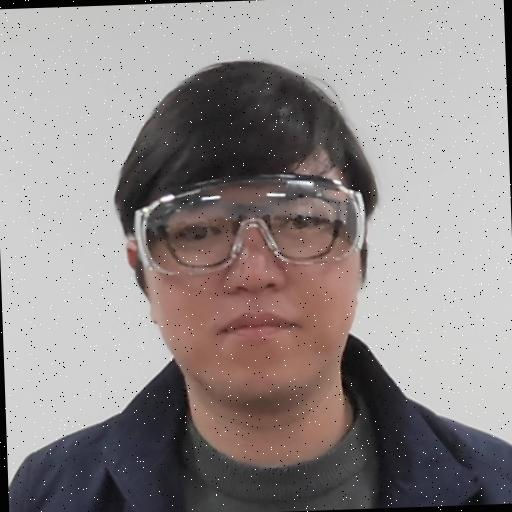glasses: (98, 53, 387, 400)
